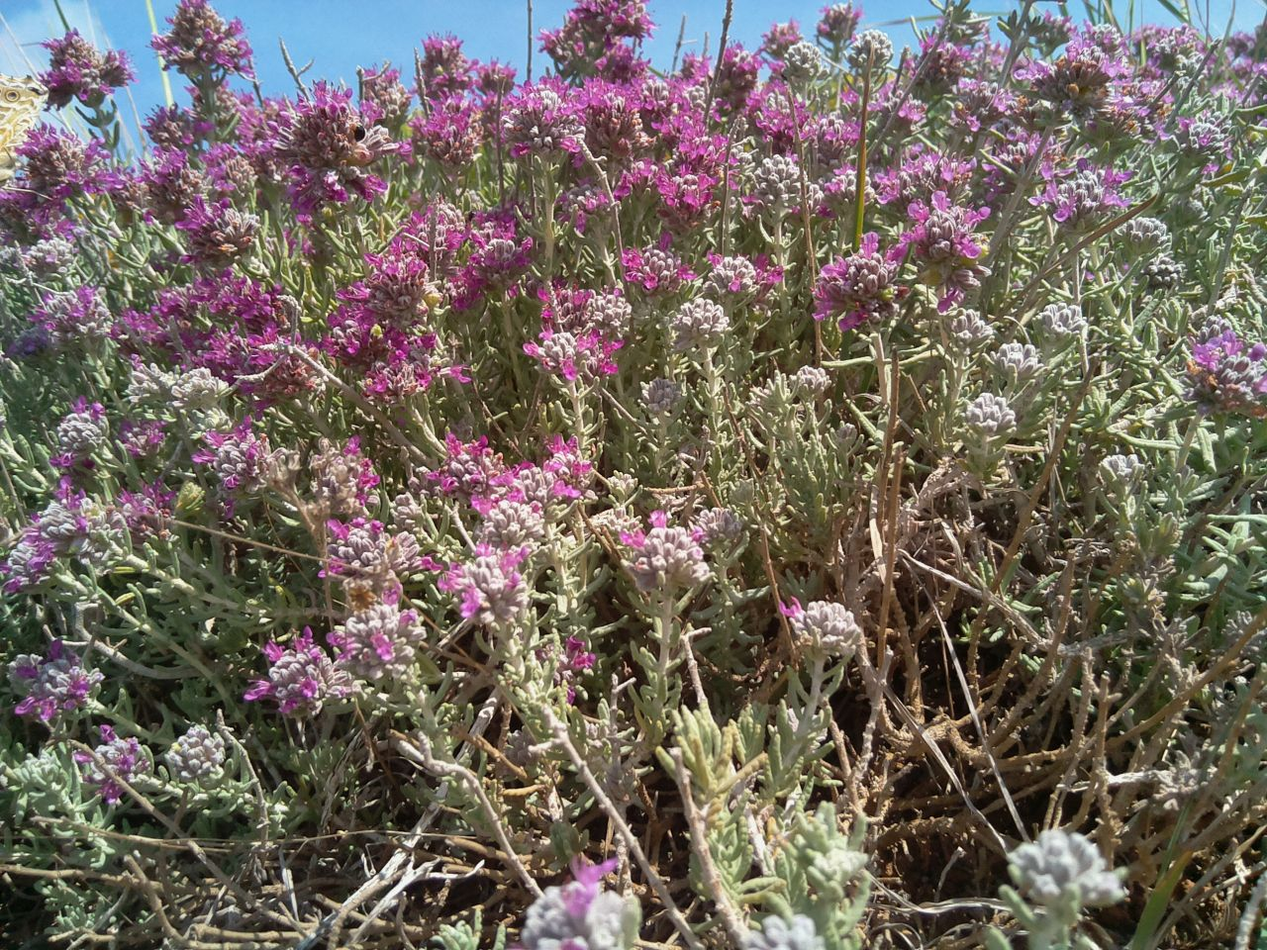Beetle: (346, 124, 377, 147)
Butterfly: (3, 68, 56, 182)
bee: (465, 209, 482, 223)
